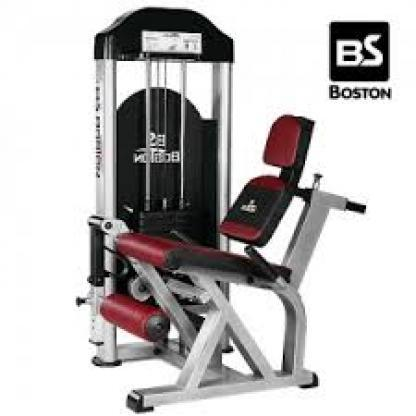leg extension: (55, 5, 368, 415)
